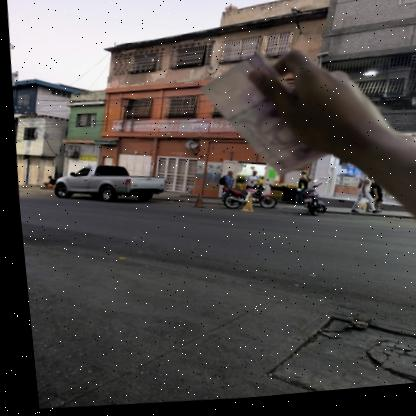one_hundred-back-vef: (191, 49, 329, 186)
